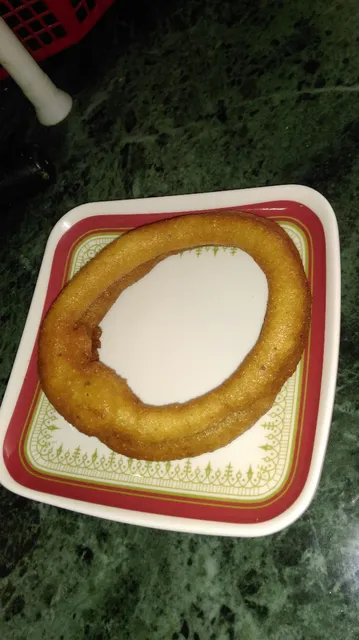sel_roti: (36, 207, 301, 439)
